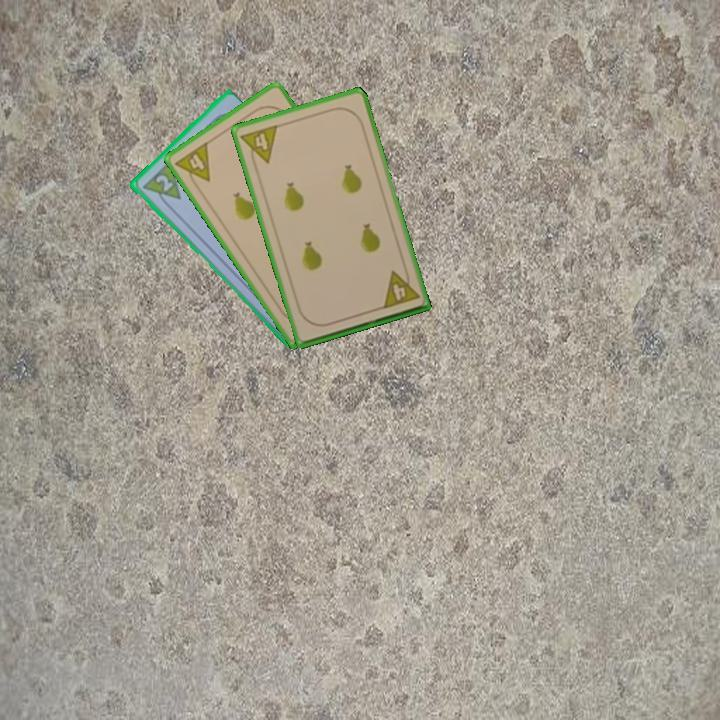2p: (151, 171, 176, 194)
4p: (171, 138, 213, 192), (237, 121, 281, 170), (379, 265, 422, 312)
